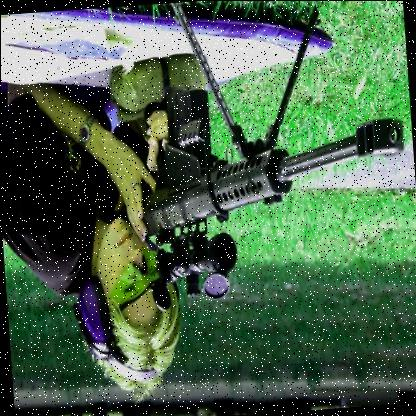rifle: (103, 20, 410, 315)
